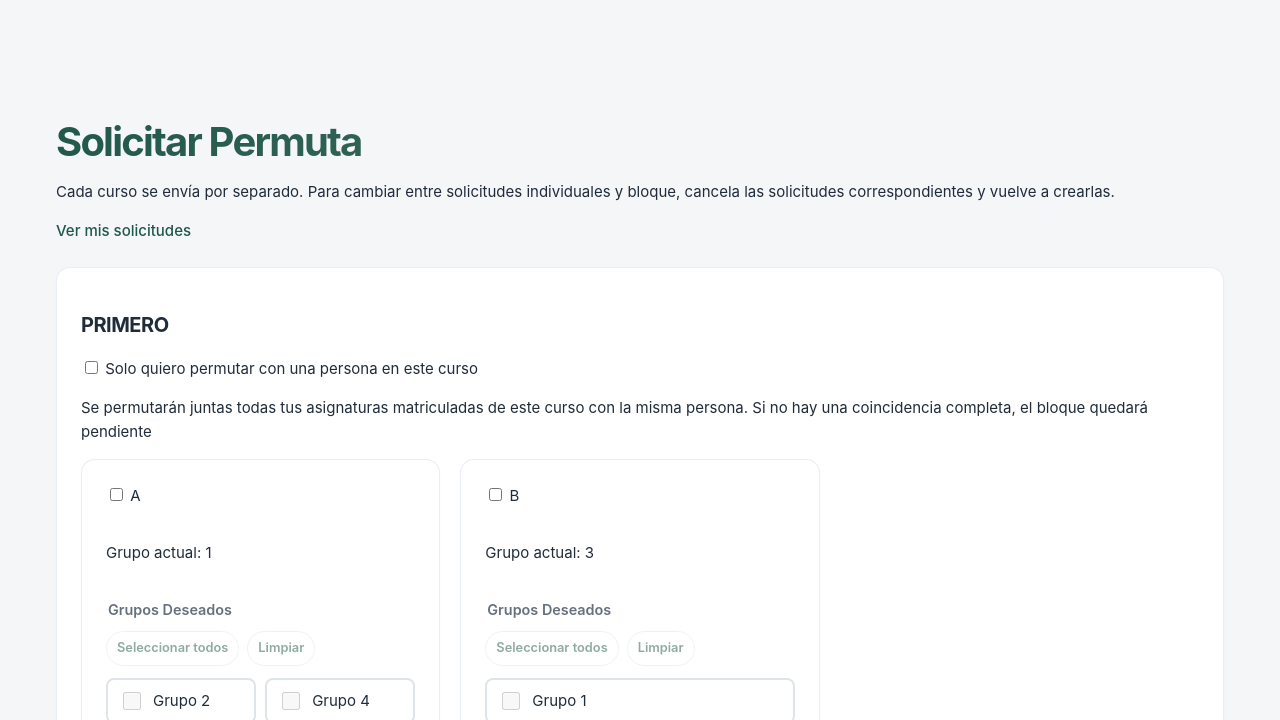
Test: solicitudes por curso › bloquea dobles envíos y reconcilia el resultado incierto antes de repetir
Click the switch at (92, 368), box [85,361,98,374]
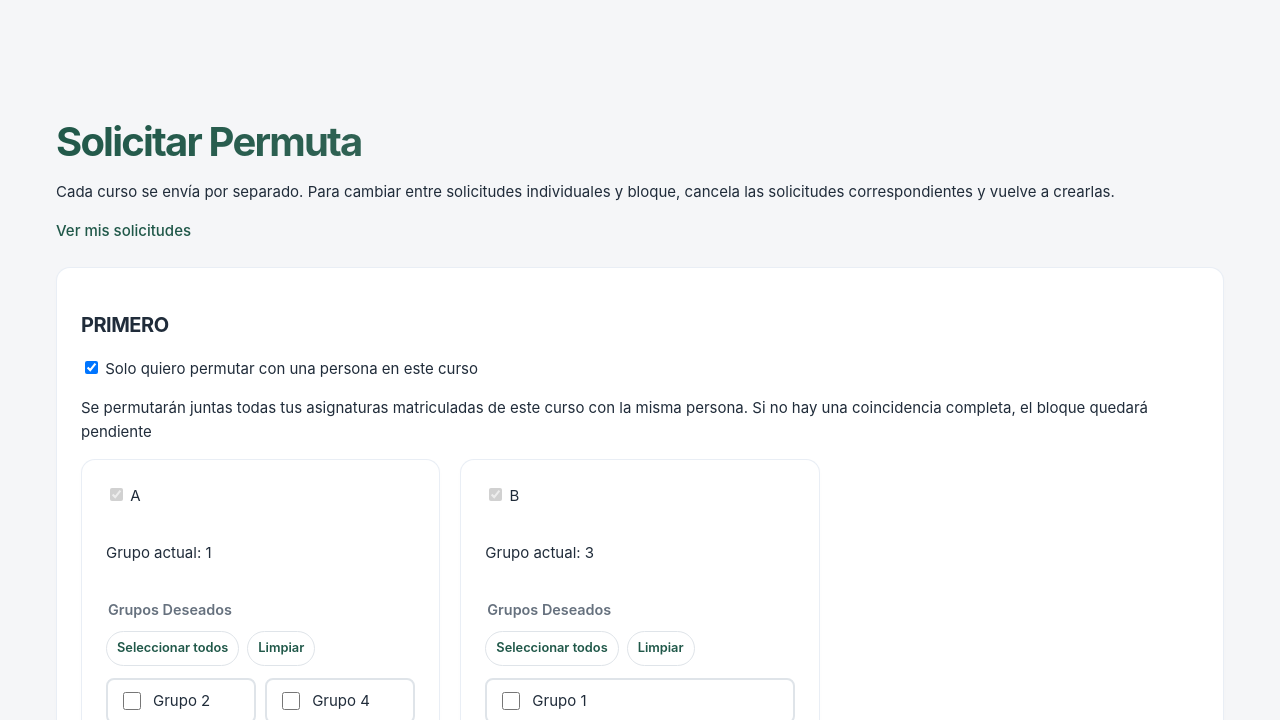
Click the checkbox labelled "Grupo 2" at (132, 701), box [123,692,141,710]
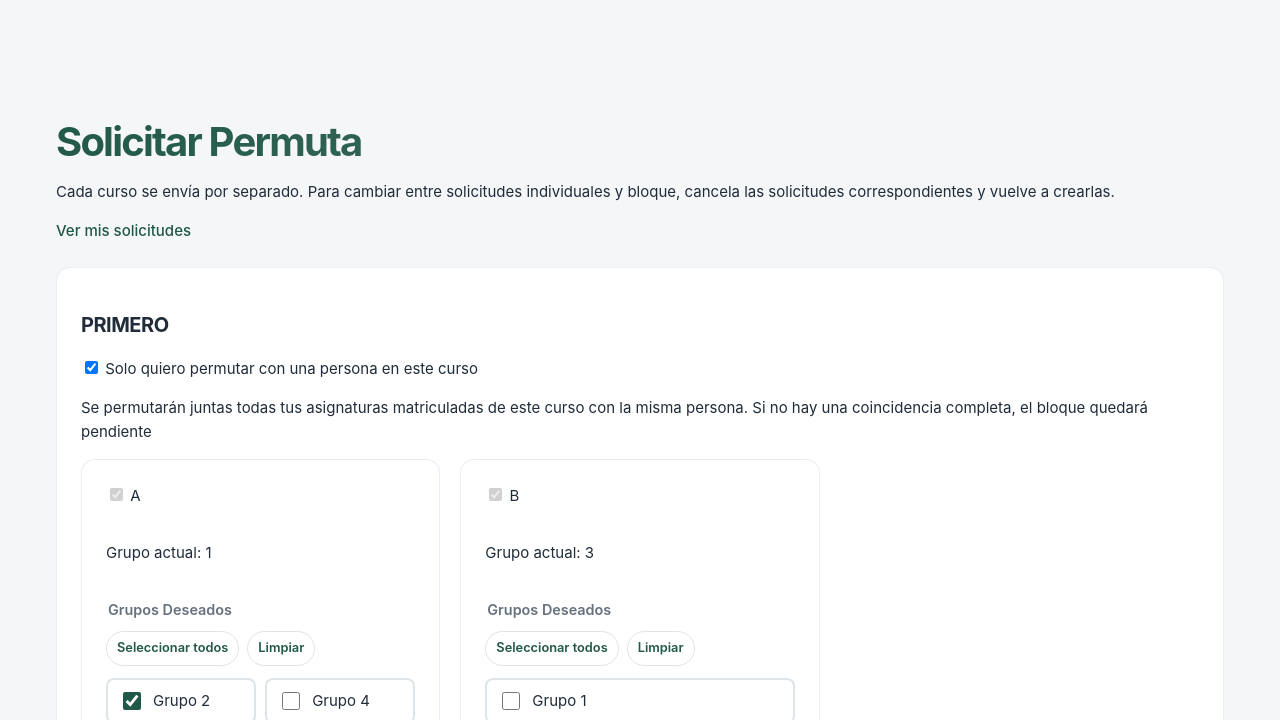
Click the checkbox labelled "Grupo 1" at (511, 701), box [502,692,520,710]
(page scrolled)
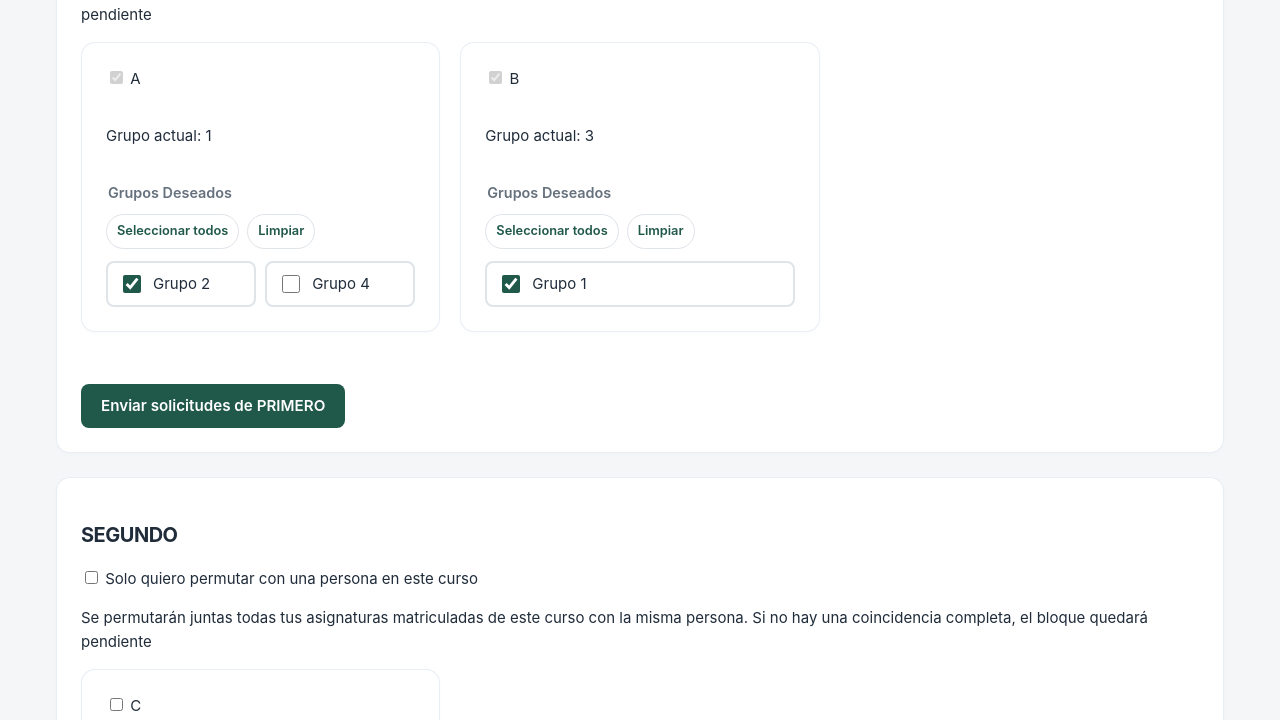
Click the button "Enviar solicitudes de PRIMERO" at (213, 406), box [81,384,345,428]
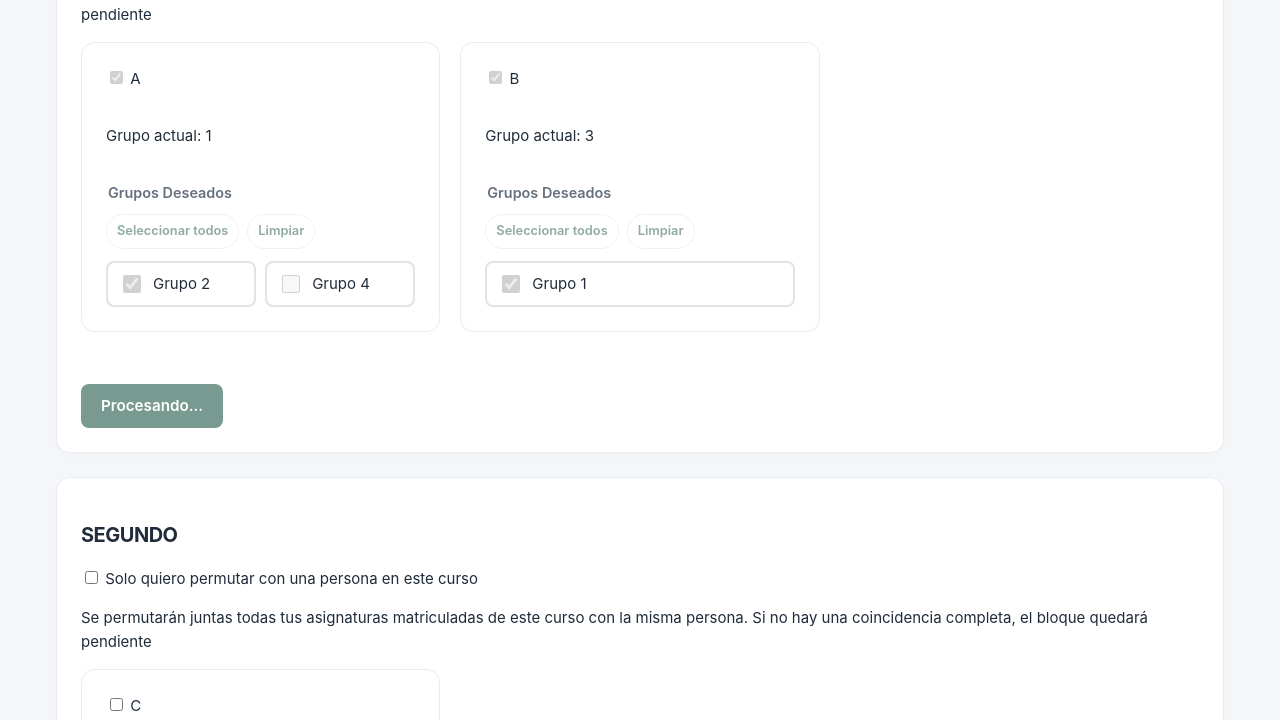
Click the button named "Enviar" at (152, 406), box [81,384,223,428]
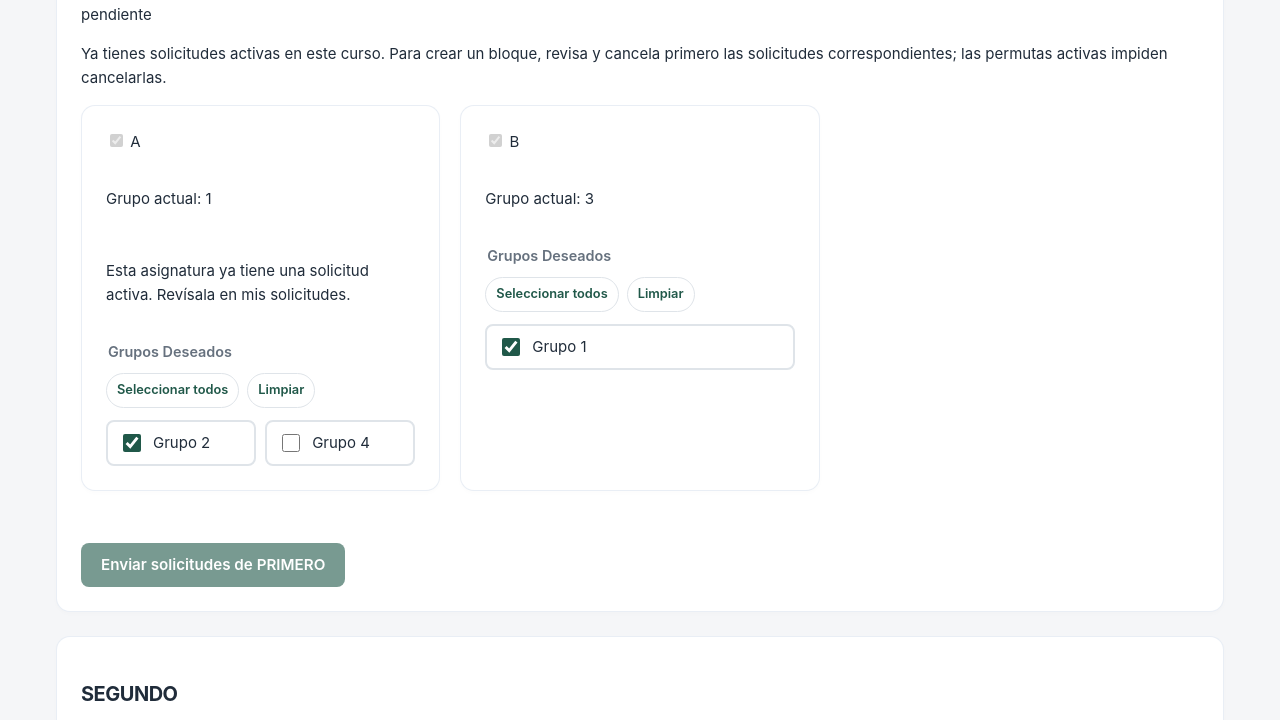
Result: the text "Ya tienes solicitudes activas" is shown at [81,44,1168,87]
Result: the button "Enviar solicitudes de PRIMERO" is disabled at [81,543,345,587]
